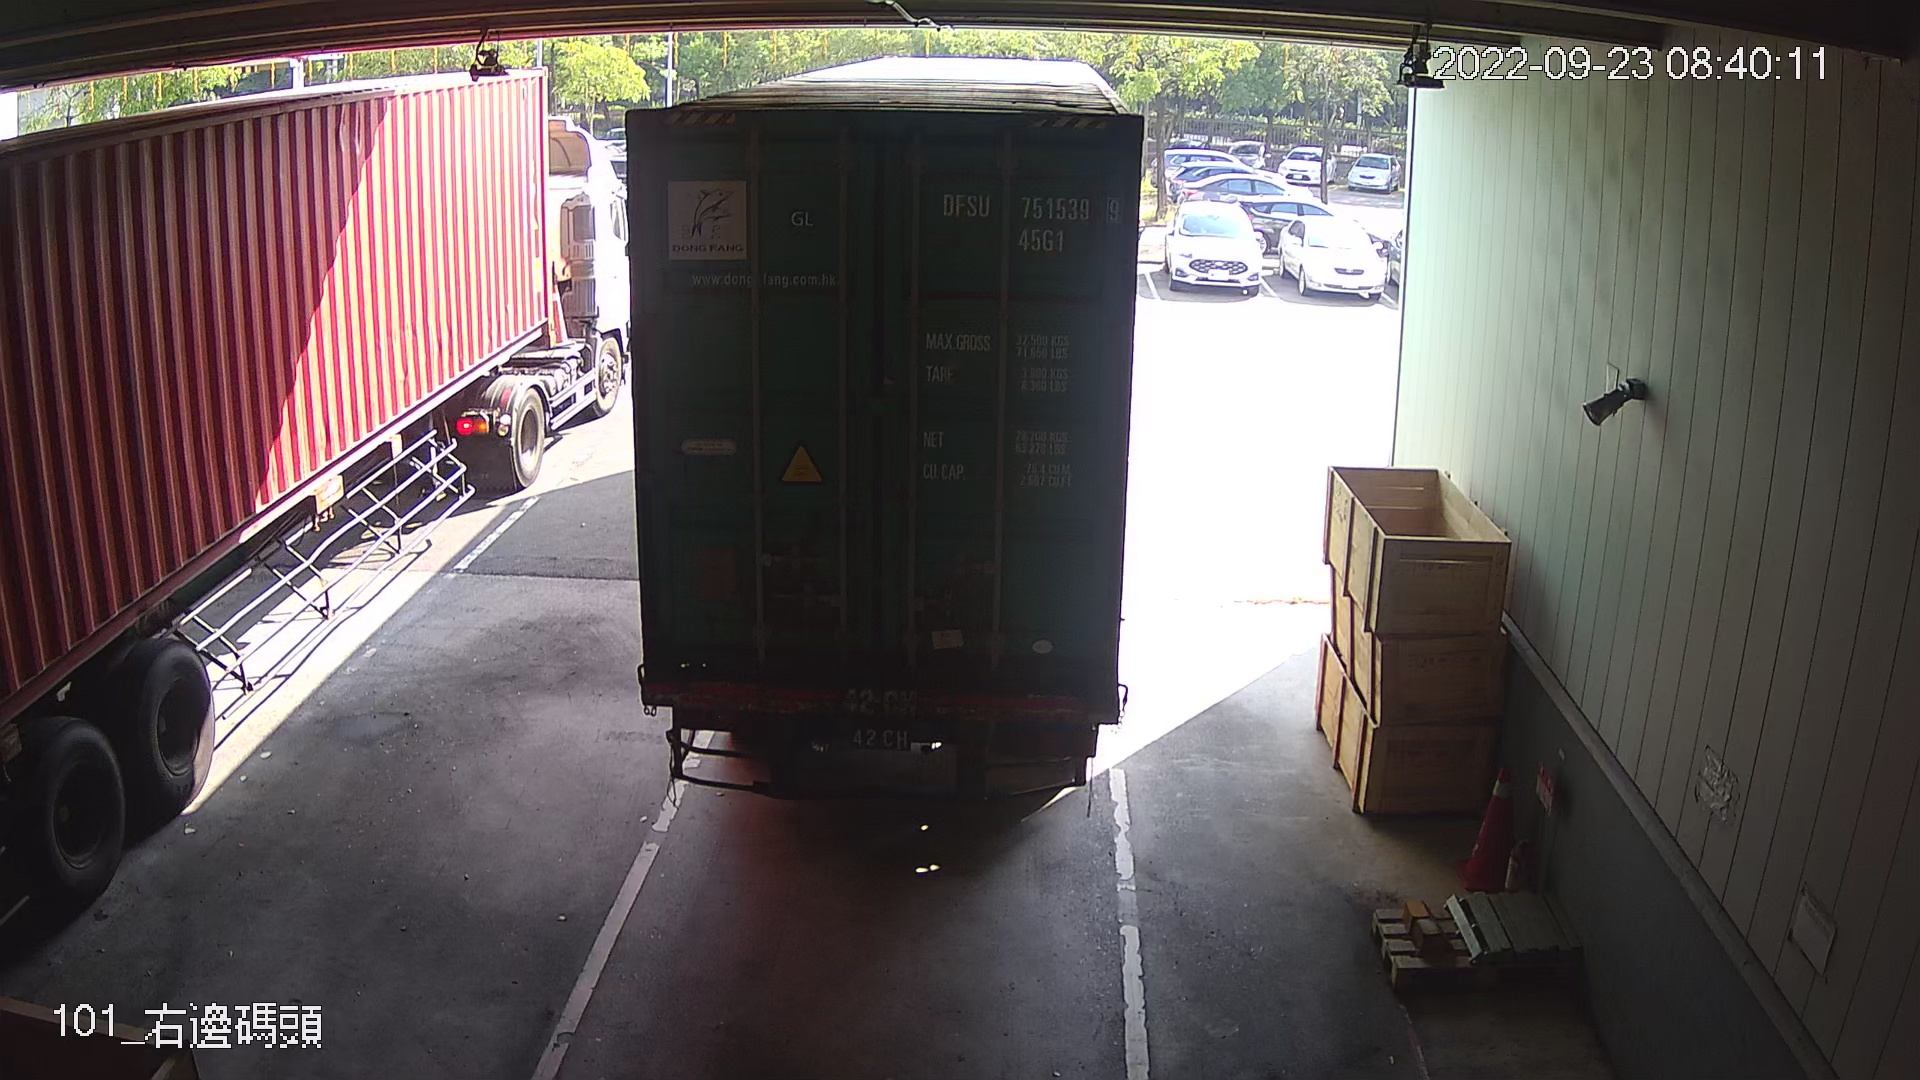container: (931, 175, 1127, 266)
